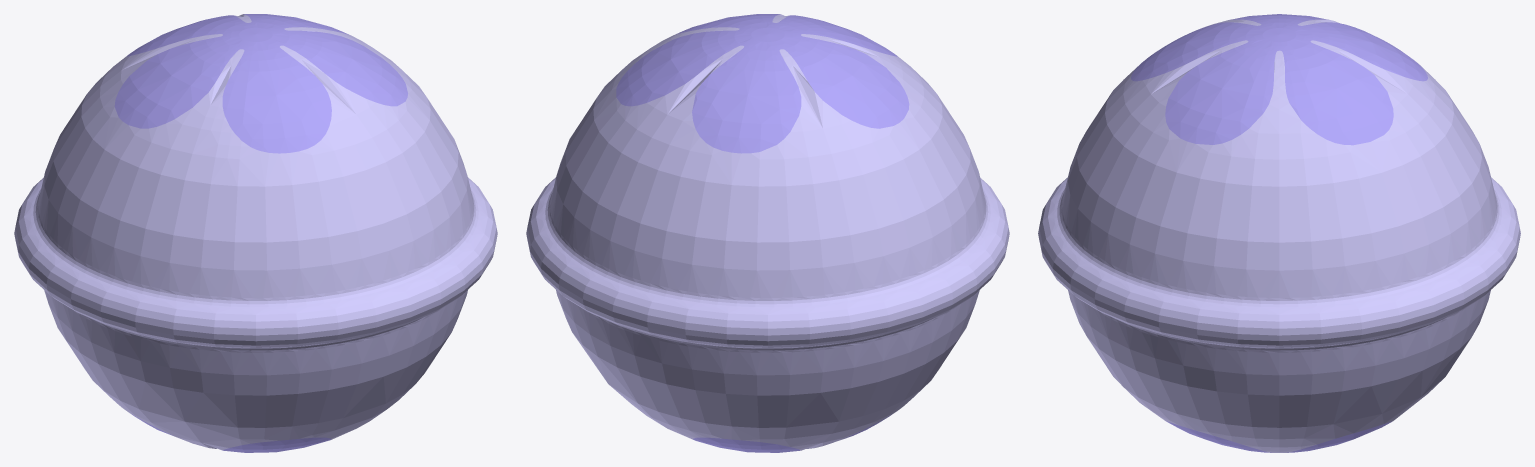
The model's file is Bathbomb_flower.fbx.
The picture shows the model from 3 angles, left to right: view 1: azimuth 30°, elevation 25°; view 2: azimuth 150°, elevation 25°; view 3: azimuth 270°, elevation 25°; orthographic projection.
Visible parts, largest first — view 1: 개체_4, 개체_2, 개체_3, 개체_1; view 2: 개체_4, 개체_2, 개체_3, 개체_1; view 3: 개체_4, 개체_2, 개체_3, 개체_1.
Boxes of the visible parts, x1,y1,x2,y2 form: 개체_4: (14,14,497,335); 개체_2: (14,236,497,450); 개체_3: (114,14,407,153); 개체_1: (130,413,330,452); 개체_4: (526,14,1009,335); 개체_2: (526,236,1009,450); 개체_3: (616,14,909,153); 개체_1: (692,414,892,452); 개체_4: (1038,19,1520,335); 개체_2: (1038,237,1520,452); 개체_3: (1131,14,1427,145); 개체_1: (1166,421,1392,452).
Size of the model in its own units: 440 by 400 by 440.
